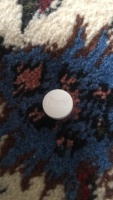Parol: (41, 88, 74, 121)
